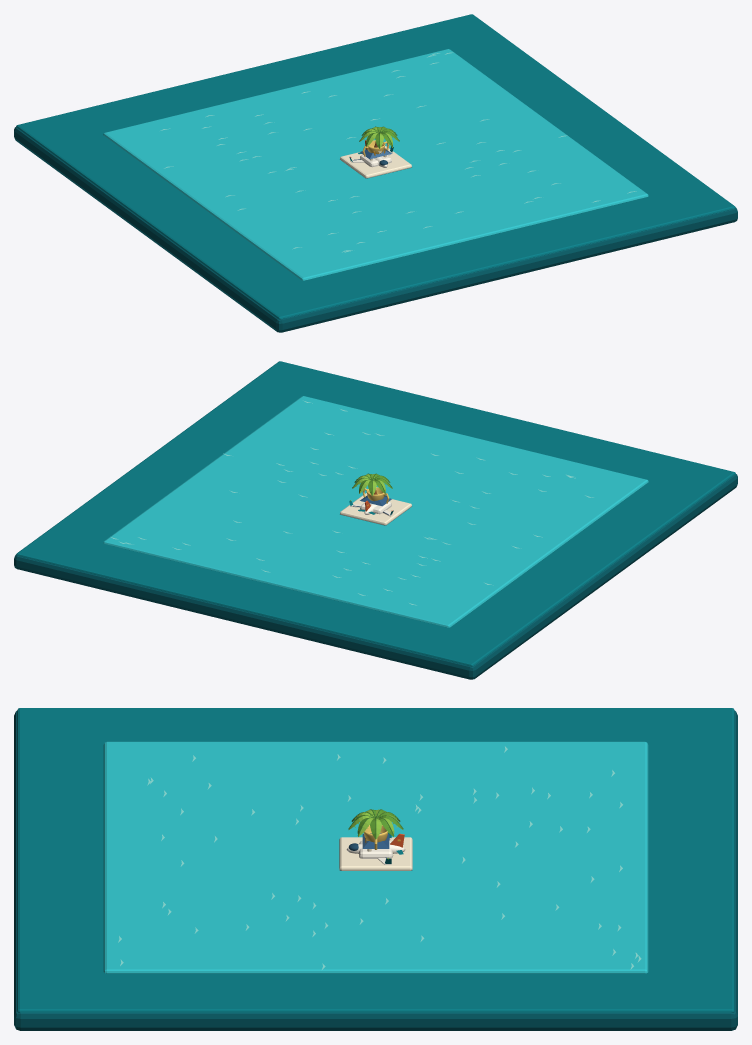
Rendered from money-tour.glb.
The picture shows the model from 3 angles, top to bottom: view 1: azimuth 30°, elevation 25°; view 2: azimuth 150°, elevation 25°; view 3: azimuth 270°, elevation 25°; orthographic projection. The views are drawn at different scales.
Parts seen in each view (by area): view 1: Inset cartoon sea, Raised turquoise rim, Deep teal game board, Generous ivory tile; view 2: Inset cartoon sea, Raised turquoise rim, Deep teal game board, Generous ivory tile; view 3: Inset cartoon sea, Raised turquoise rim, Deep teal game board, Generous ivory tile.
Part boxes in pixels (left/top/right/bottom): Inset cartoon sea: left=103, top=49, right=648, bottom=280; Raised turquoise rim: left=16, top=14, right=735, bottom=319; Deep teal game board: left=14, top=127, right=737, bottom=332; Generous ivory tile: left=340, top=146, right=411, bottom=178; Inset cartoon sea: left=103, top=396, right=648, bottom=627; Raised turquoise rim: left=16, top=361, right=735, bottom=666; Deep teal game board: left=14, top=474, right=737, bottom=679; Generous ivory tile: left=340, top=493, right=411, bottom=525; Inset cartoon sea: left=103, top=741, right=648, bottom=973; Raised turquoise rim: left=17, top=708, right=734, bottom=1012; Deep teal game board: left=14, top=711, right=737, bottom=1030; Generous ivory tile: left=339, top=837, right=412, bottom=870.
Size of the model in its own units: 16.65 by 1.74 by 16.65.
